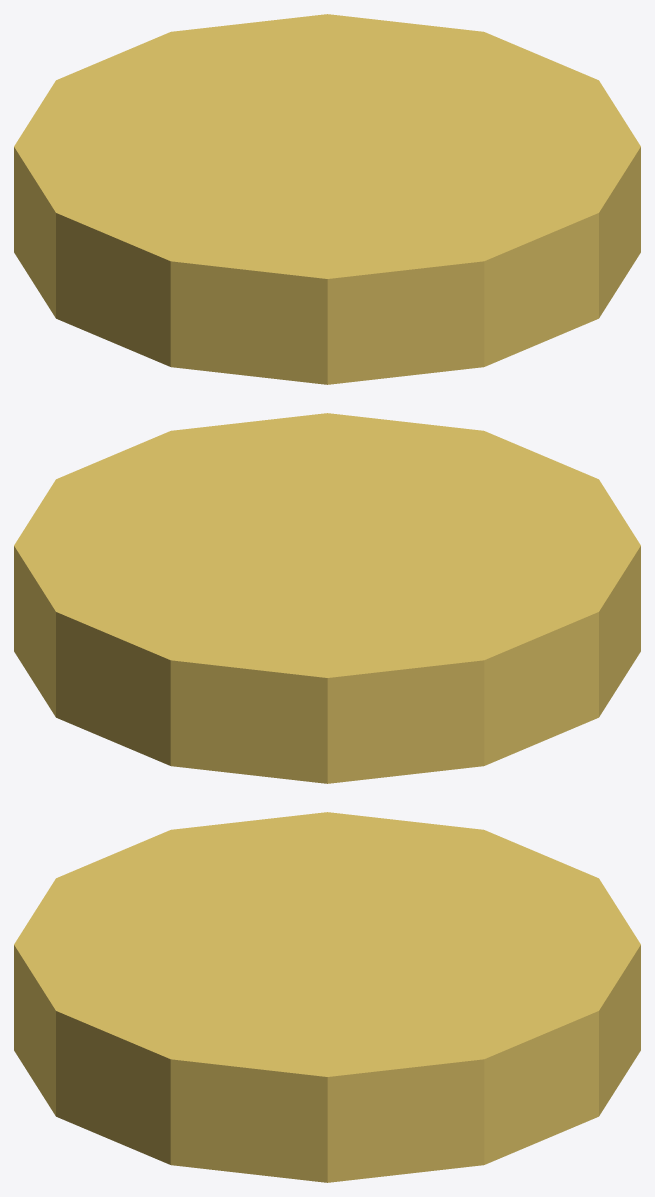
The model's file is coin.fbx.
3 renders of one model, top to bottom at view 1: azimuth 30°, elevation 25°; view 2: azimuth 150°, elevation 25°; view 3: azimuth 270°, elevation 25°, orthographic.
Parts seen in each view (by area): view 1: coin; view 2: coin; view 3: coin.
Part boxes in pixels (x1,y1,x2,y2): coin: (14, 14, 640, 384); coin: (14, 413, 640, 783); coin: (14, 812, 640, 1182).
Size of the model in its own units: 46 by 8.57 by 46.
